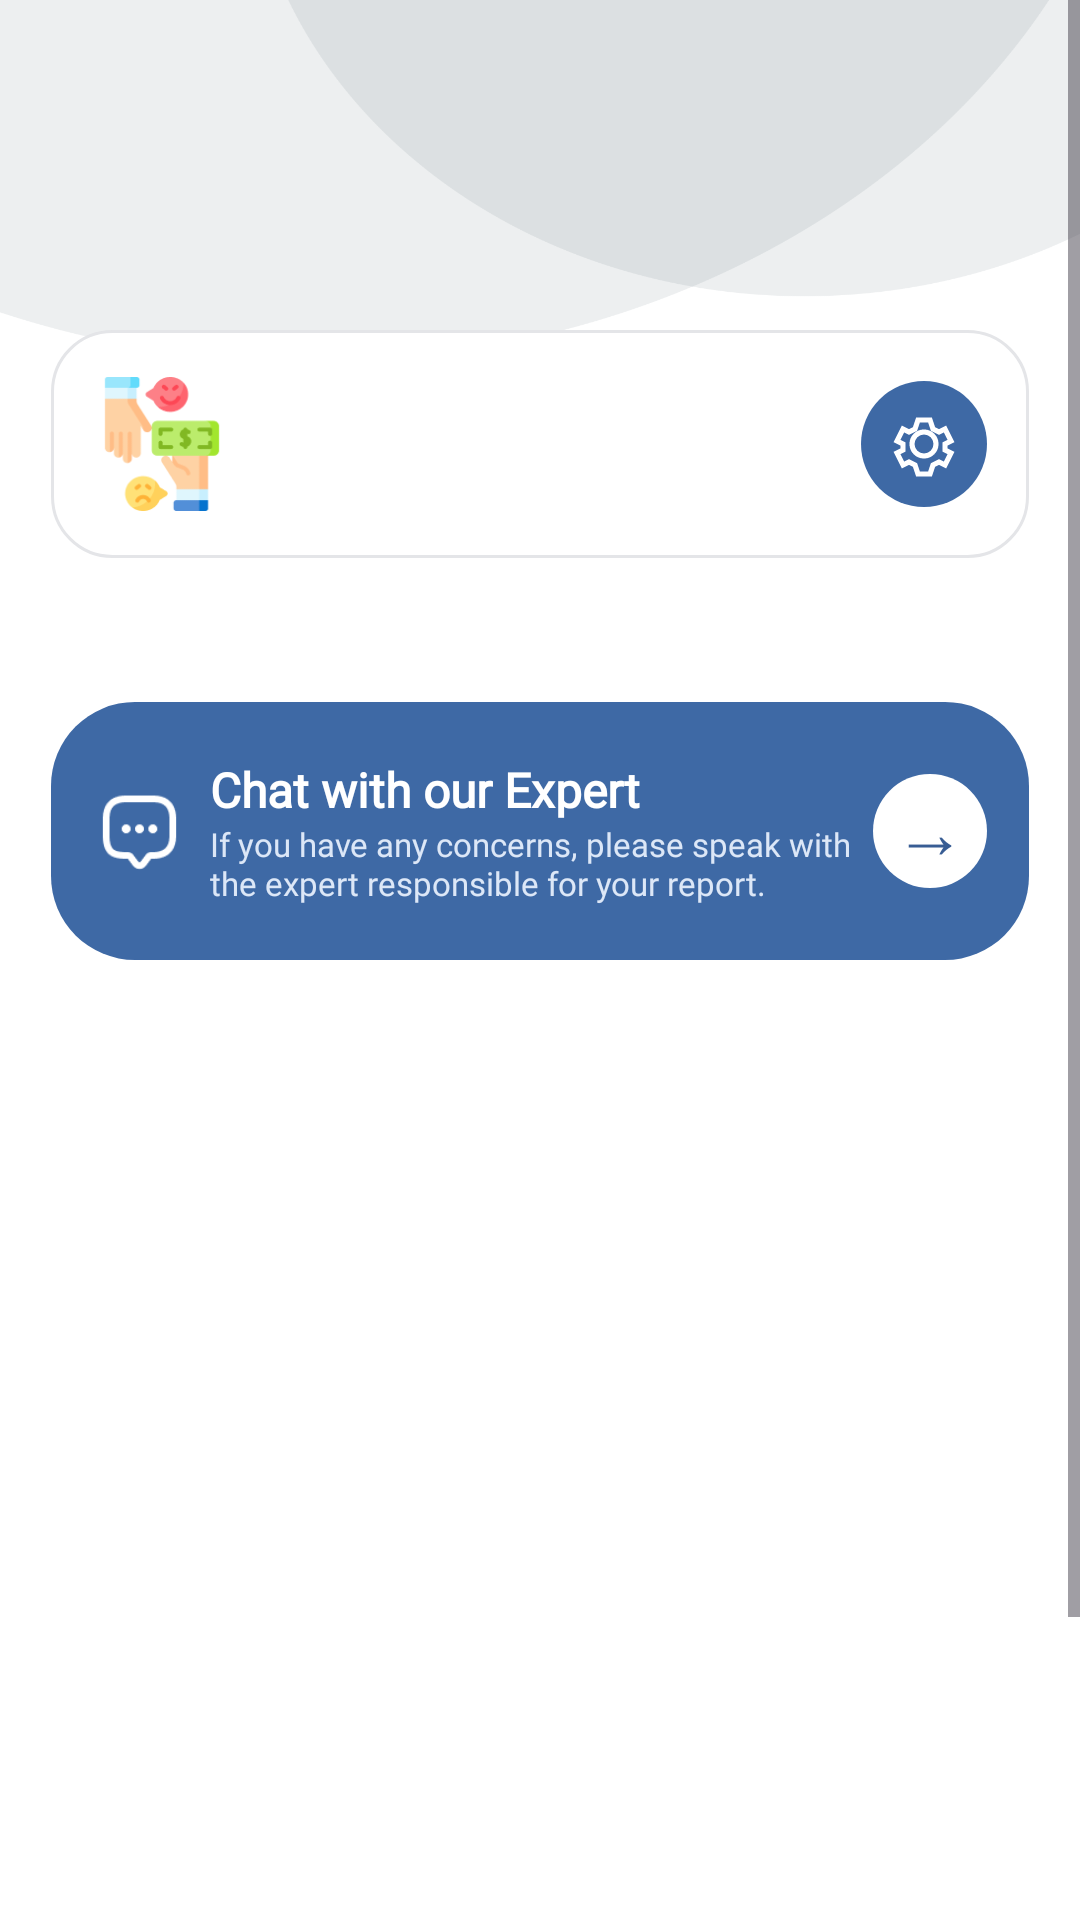

Screen size 1080x1920. Icon name, then its center in pixels as (x,y):
Settings: (924,444)
